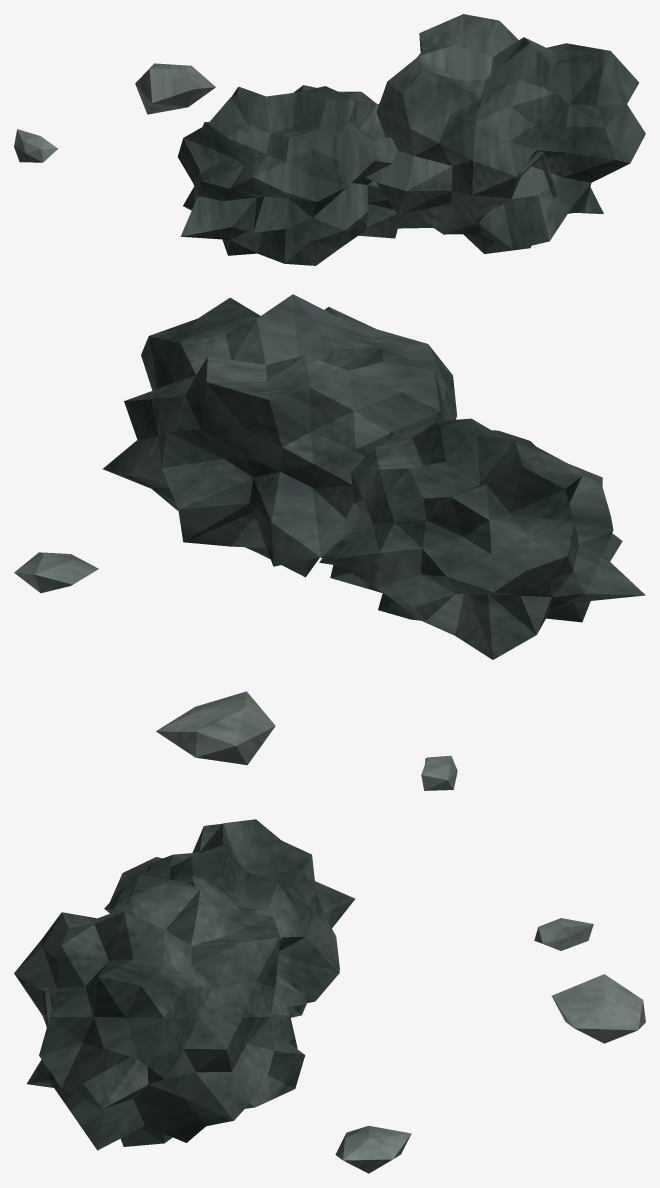
The model's file is 0014_boulder_14.glb.
3 views of the same model, one above another, from view 1: azimuth 30°, elevation 25°; view 2: azimuth 150°, elevation 25°; view 3: azimuth 270°, elevation 25° (orthographic). The views are drawn at different scales.
Parts seen in each view (by area): view 1: stone_dark, stone; view 2: stone_dark, stone; view 3: stone_dark, stone.
Boxes of the visible parts, bbox=[...] form: stone_dark: bbox=[177, 14, 645, 265]; stone: bbox=[14, 63, 215, 162]; stone_dark: bbox=[103, 294, 645, 659]; stone: bbox=[14, 552, 457, 790]; stone_dark: bbox=[14, 819, 355, 1150]; stone: bbox=[335, 918, 645, 1173].
Bounding box in the file's own units: 2.14 × 0.9644 × 2.35.
2 materials, 2 textured.
